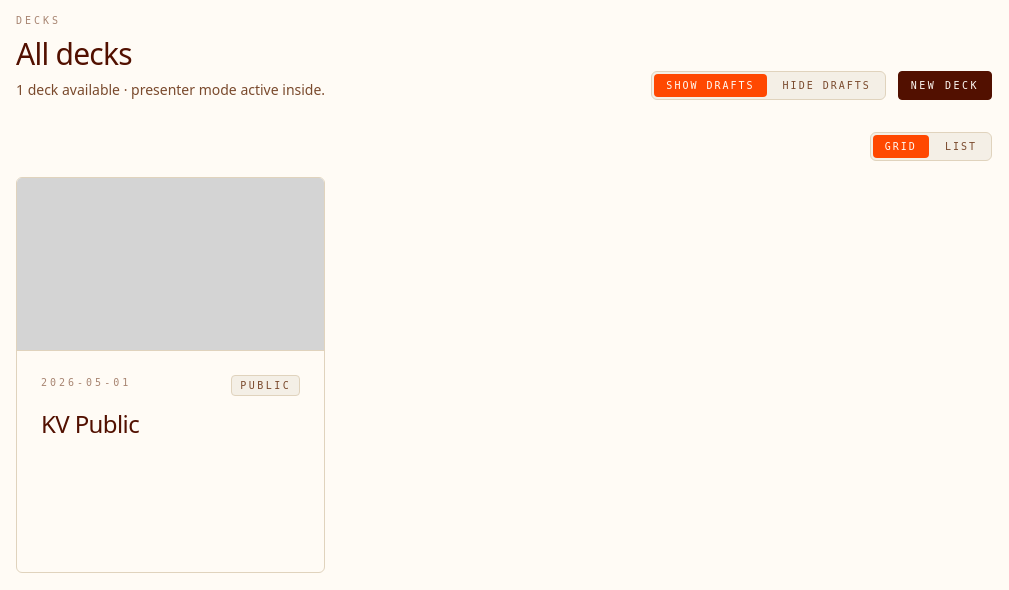
it: AdminIndex — KV visibility quick toggle (#214) › toggling public → private fetches full record, POSTs flipped record, and the pill flips to PRIVATE
Click the button with test id "deck-visibility-toggle-kv-public": (266, 385) [231,375,300,396]
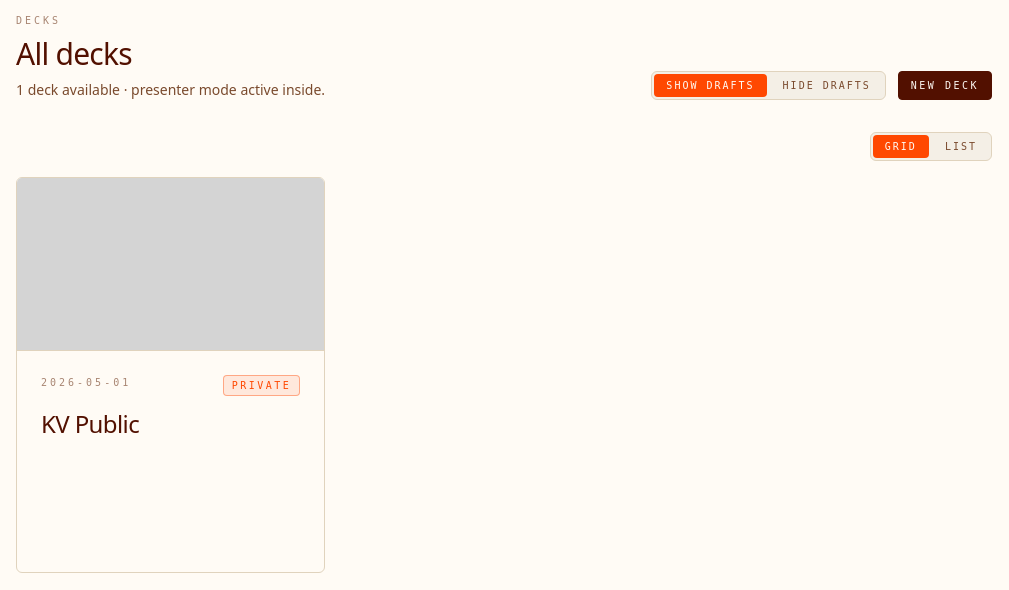
Expected: the button with test id "deck-visibility-toggle-kv-public" reads "private", [223,375,300,396]
